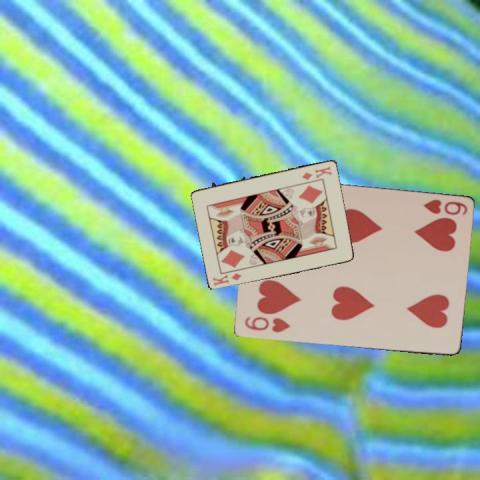6h: (241, 313, 292, 334), (420, 196, 469, 217)
Kd: (210, 265, 245, 287), (298, 162, 333, 180)
